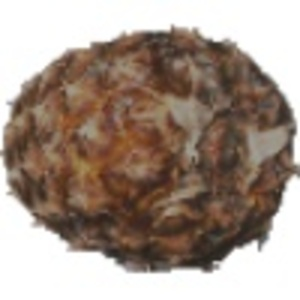abacaxi: (1, 22, 291, 263)
